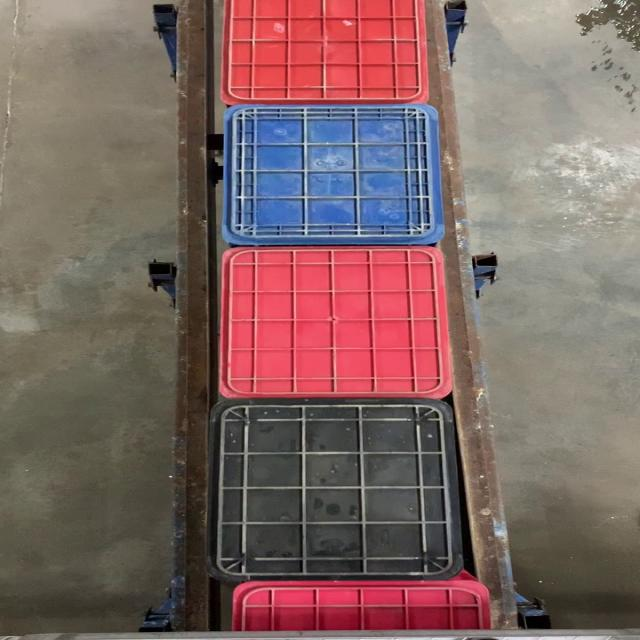Box: (204, 397, 466, 581), (216, 245, 457, 398), (220, 103, 448, 245)
